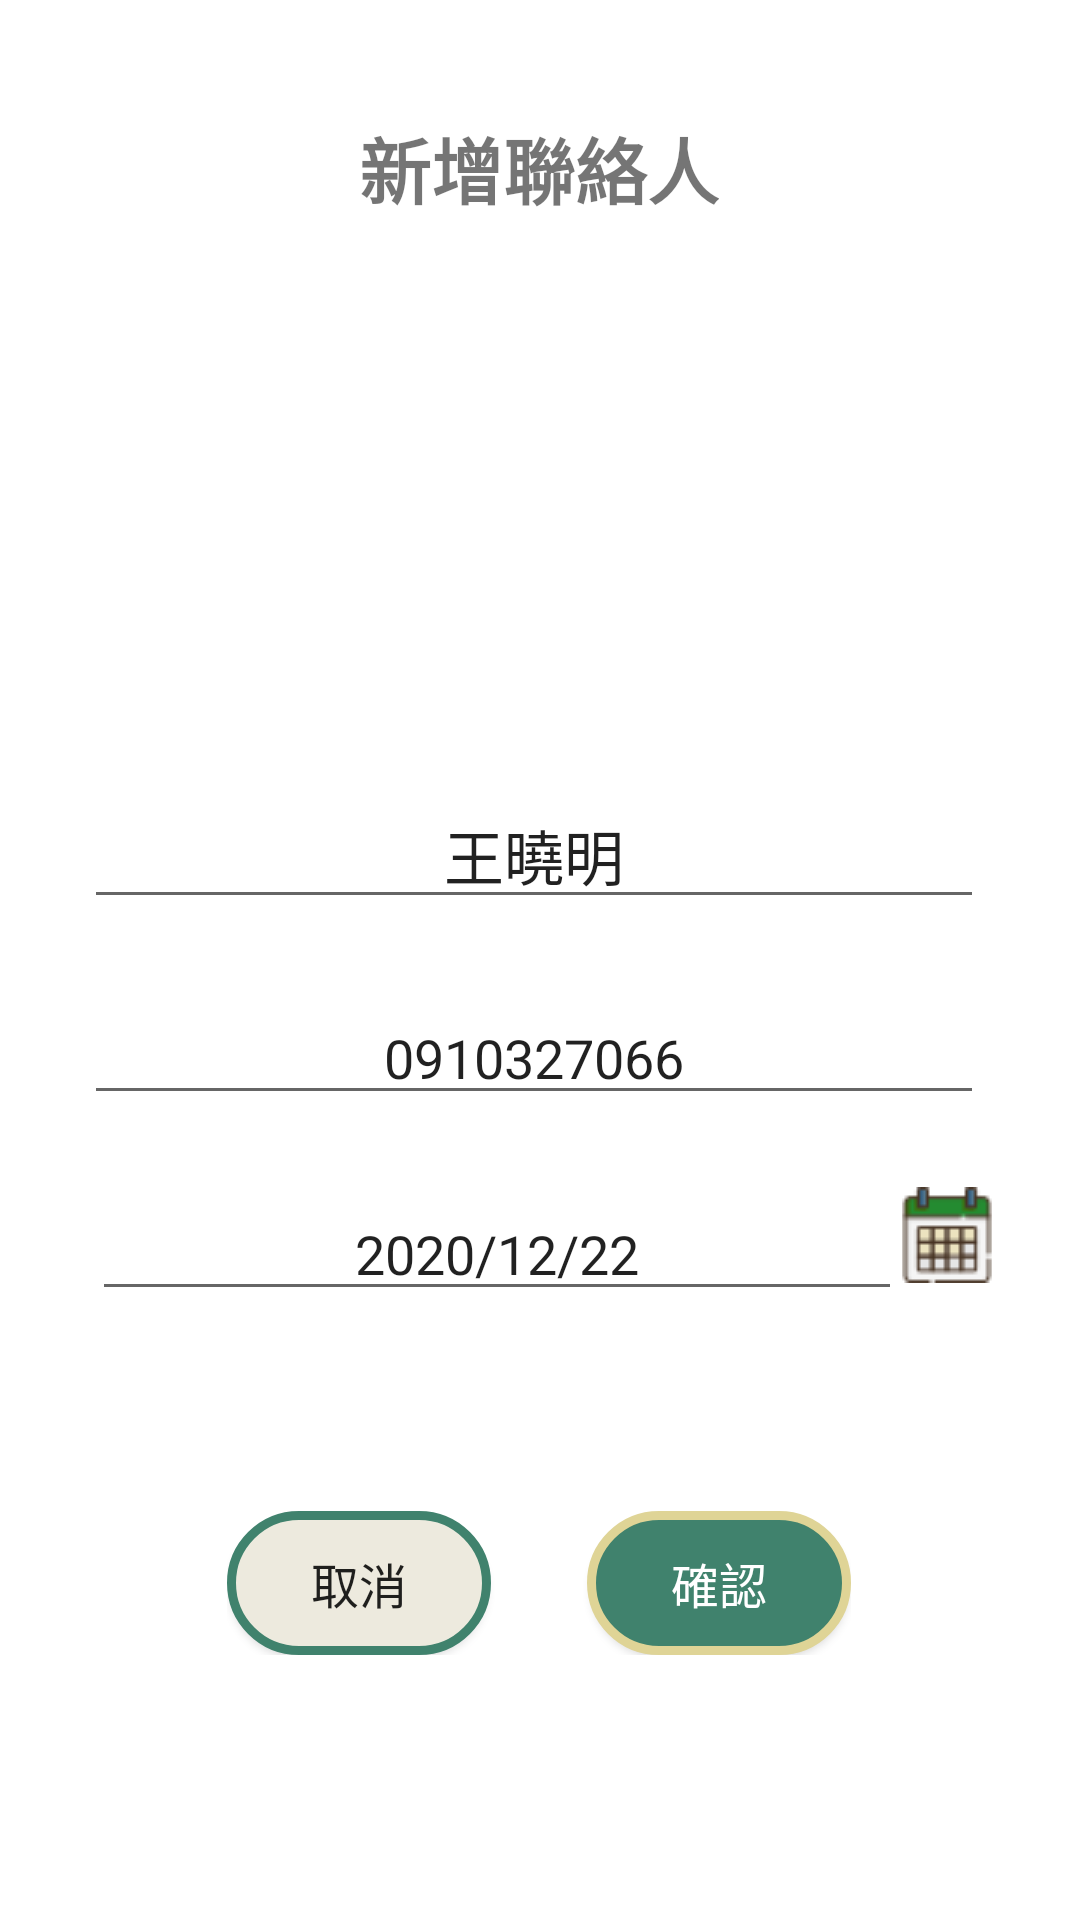

Point at icon controls on the screen. Image size 1080 x 1920, points as (x=x, y=y).
calendar: (x=947, y=1235)
